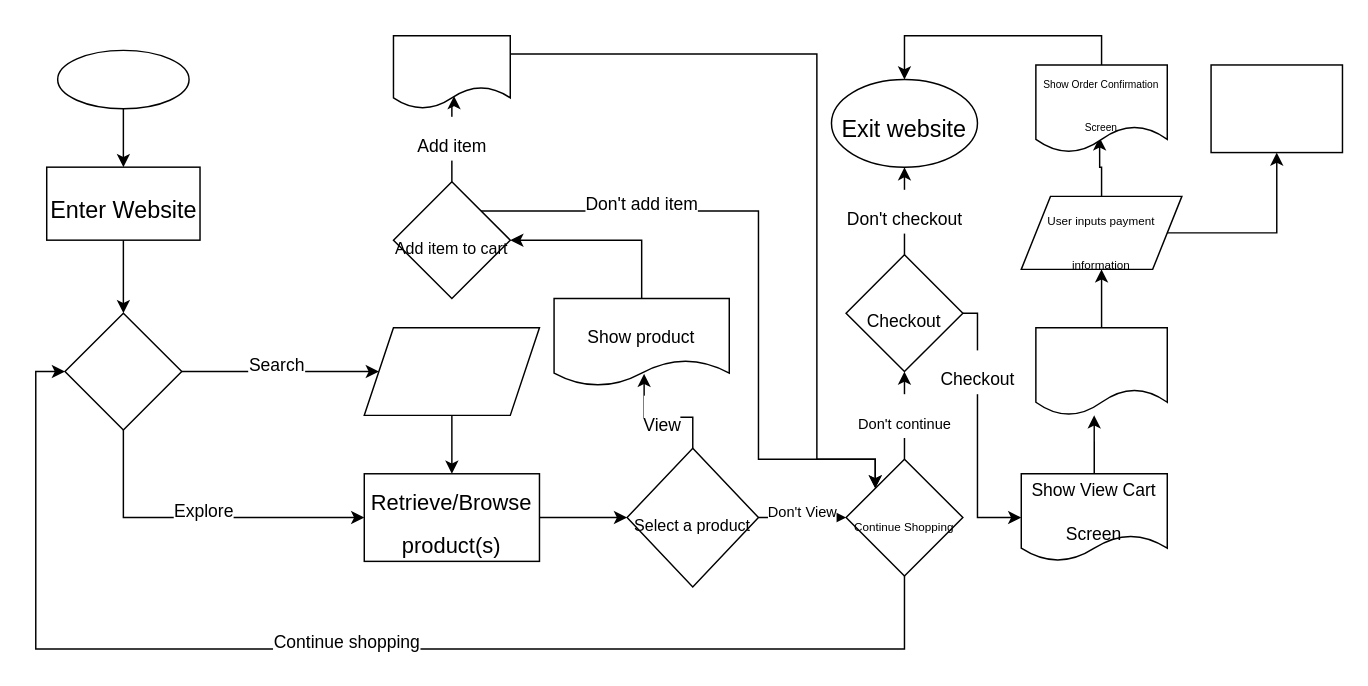
This 1368x686 diagram has some shape labels left out. The centre of each missing label's shape, as x and y in pixels:
Enter Search Term: the point at 451,370
Search or Explore: the point at 123,371
Send email to user: the point at 1276,108
Show add confirmation: the point at 451,71
Show View Payment Screen: the point at 1100,370
Start: the point at 122,79
